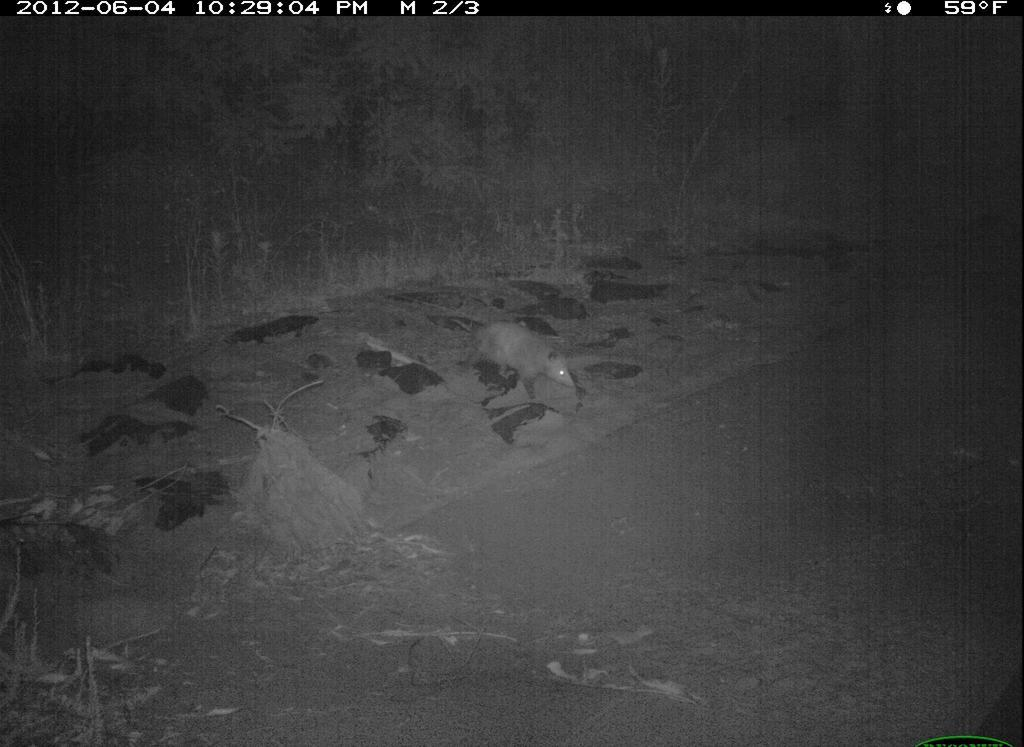opossum: (451, 306, 605, 417)
